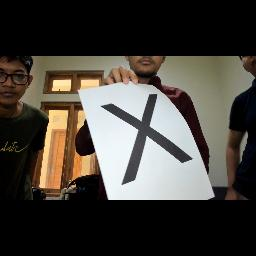x: (98, 90, 198, 190)
